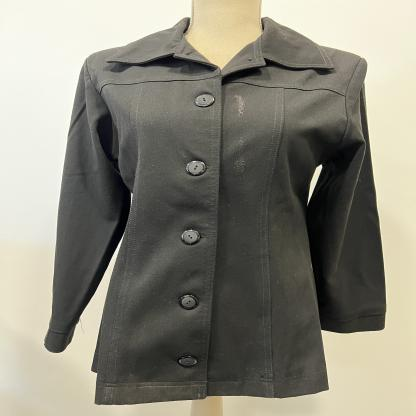stain: (229, 135, 252, 177), (232, 93, 247, 119)
